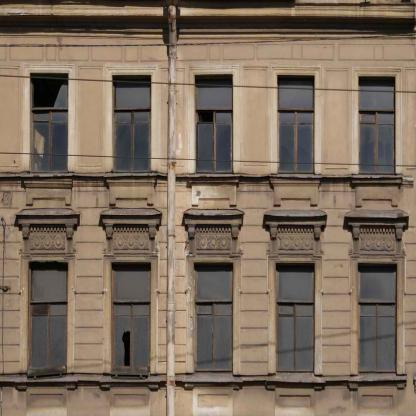Building Outline: (0, 0, 416, 416)
Cornice: (345, 209, 410, 256), (15, 208, 80, 254), (182, 208, 245, 254), (263, 209, 327, 254), (99, 208, 162, 252)
Facade: (0, 0, 416, 416)
Floor: (0, 0, 416, 206), (0, 218, 416, 415)
Floor Slab: (0, 206, 416, 219)
Sill: (20, 172, 74, 206), (104, 173, 157, 204), (351, 175, 402, 207), (189, 174, 239, 206), (269, 176, 322, 206)
Window: (29, 262, 68, 373), (358, 263, 397, 374), (276, 263, 315, 374), (194, 263, 233, 374), (112, 263, 151, 374), (112, 74, 151, 172), (194, 74, 233, 172), (30, 73, 68, 173), (358, 75, 396, 172), (277, 74, 314, 172)
